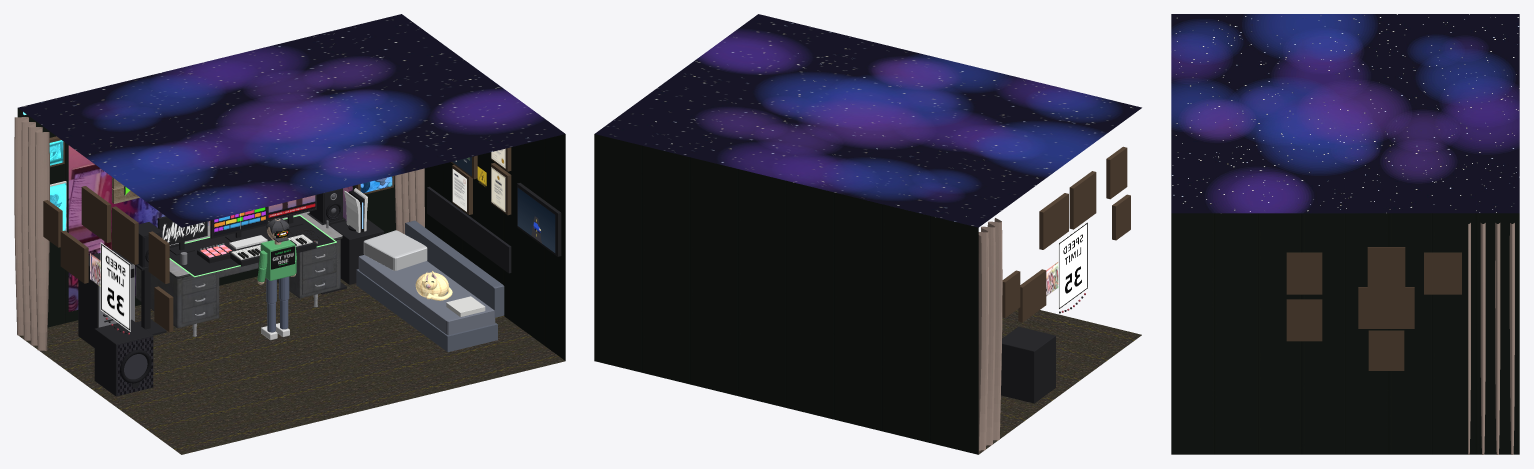
The model's file is studio10.glb.
The picture shows the model from 3 angles, left to right: view 1: azimuth 30°, elevation 25°; view 2: azimuth 150°, elevation 25°; view 3: azimuth 270°, elevation 25°; orthographic projection. The views are drawn at different scales.
Visible parts, largest first — view 1: Ceiling, Floor, RightWall, CurtainLeft, Tapestry, FutonMattress, BackWall, metal_office_desk, FutonBack, FutonBase, AcousticFoam, LittleLumar_Body (+21 smaller); view 2: BackWall, Ceiling, Floor, CurtainLeft, SubwooferL, SpeedLimit35, ArtCollage_frame, ArtSneaker_frame, ArtLuMar_frame, ArtTarget_frame, ArtAnime_frame, ArtCamila_frame; view 3: RightWall, Ceiling, CurtainRight, ShadowBox_frame, Cert2_frame, Cert1_frame, Cert3_frame, Cert5_frame, Cert4_frame.
Part boxes in pixels (bbox=[...]): Ceiling: bbox=[18, 14, 564, 227]; Floor: bbox=[18, 276, 565, 454]; RightWall: bbox=[424, 134, 565, 360]; CurtainLeft: bbox=[14, 117, 49, 350]; Tapestry: bbox=[68, 145, 352, 311]; FutonMattress: bbox=[358, 255, 495, 335]; BackWall: bbox=[17, 108, 395, 327]; metal_office_desk: bbox=[135, 211, 342, 336]; FutonBack: bbox=[405, 220, 504, 317]; FutonBase: bbox=[356, 269, 497, 352]; AcousticFoam: bbox=[427, 186, 511, 273]; LittleLumar_Body: bbox=[257, 240, 296, 340]; BackWall: bbox=[594, 134, 978, 454]; Ceiling: bbox=[595, 14, 1141, 227]; Floor: bbox=[978, 309, 1141, 454]; CurtainLeft: bbox=[978, 218, 1002, 454]; SubwooferL: bbox=[1001, 326, 1055, 403]; SpeedLimit35: bbox=[1058, 221, 1088, 310]; ArtCollage_frame: bbox=[1069, 171, 1096, 229]; ArtSneaker_frame: bbox=[1039, 193, 1068, 249]; ArtLuMar_frame: bbox=[1018, 269, 1046, 322]; ArtTarget_frame: bbox=[1106, 146, 1127, 199]; ArtAnime_frame: bbox=[1002, 270, 1020, 317]; ArtCamila_frame: bbox=[1112, 194, 1130, 240]; RightWall: bbox=[1171, 213, 1519, 454]; Ceiling: bbox=[1171, 14, 1519, 213]; CurtainRight: bbox=[1468, 223, 1514, 454]; ShadowBox_frame: bbox=[1358, 287, 1414, 328]; Cert2_frame: bbox=[1424, 252, 1461, 294]; Cert1_frame: bbox=[1367, 247, 1405, 287]; Cert3_frame: bbox=[1286, 252, 1322, 294]; Cert5_frame: bbox=[1286, 299, 1322, 341]; Cert4_frame: bbox=[1368, 330, 1404, 370].
Size of the model in its own units: 4.68 by 2.6 by 3.4.
Materials: 80 (41 with a texture image).
